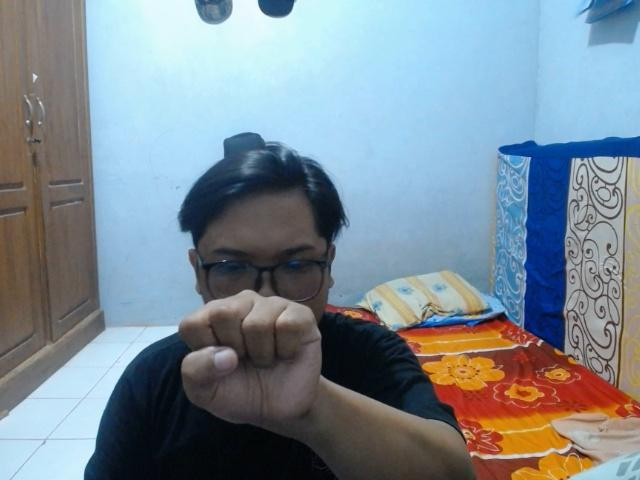Grab: (170, 286, 332, 436)
